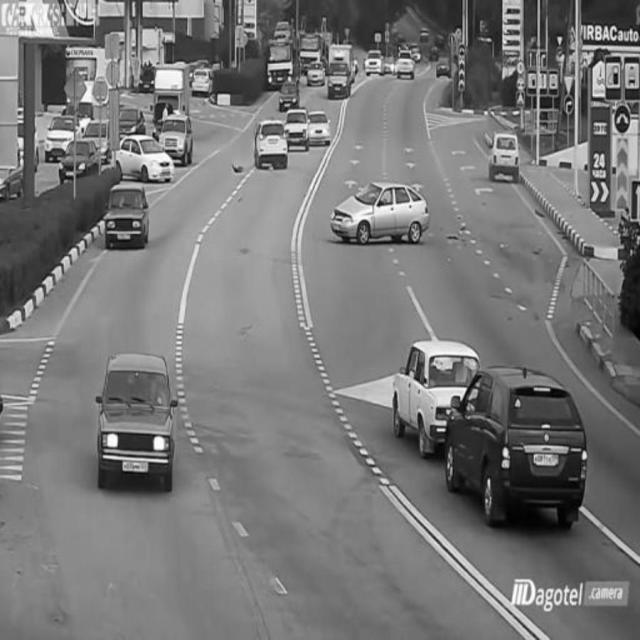vehicle: (453, 369, 589, 535), (100, 347, 177, 484), (392, 327, 464, 451), (328, 181, 430, 247), (103, 173, 150, 255), (115, 131, 179, 188), (54, 129, 100, 183), (251, 115, 289, 172), (160, 110, 196, 164), (265, 36, 299, 92), (487, 126, 519, 181), (308, 101, 335, 155), (285, 104, 311, 156), (327, 59, 354, 101), (394, 49, 418, 86), (362, 45, 384, 80), (304, 54, 322, 90)
